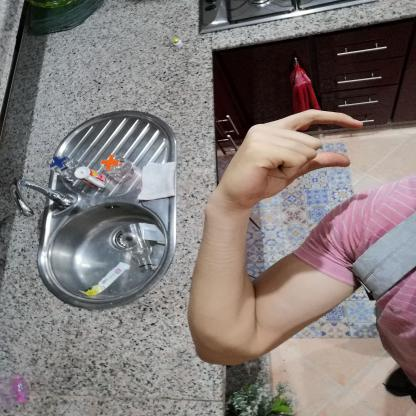DELL: (210, 102, 378, 211)
